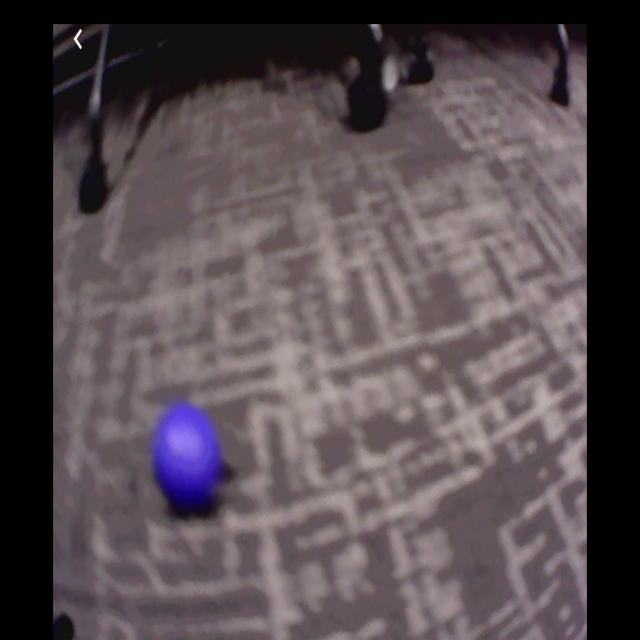ball: (152, 404, 220, 505)
